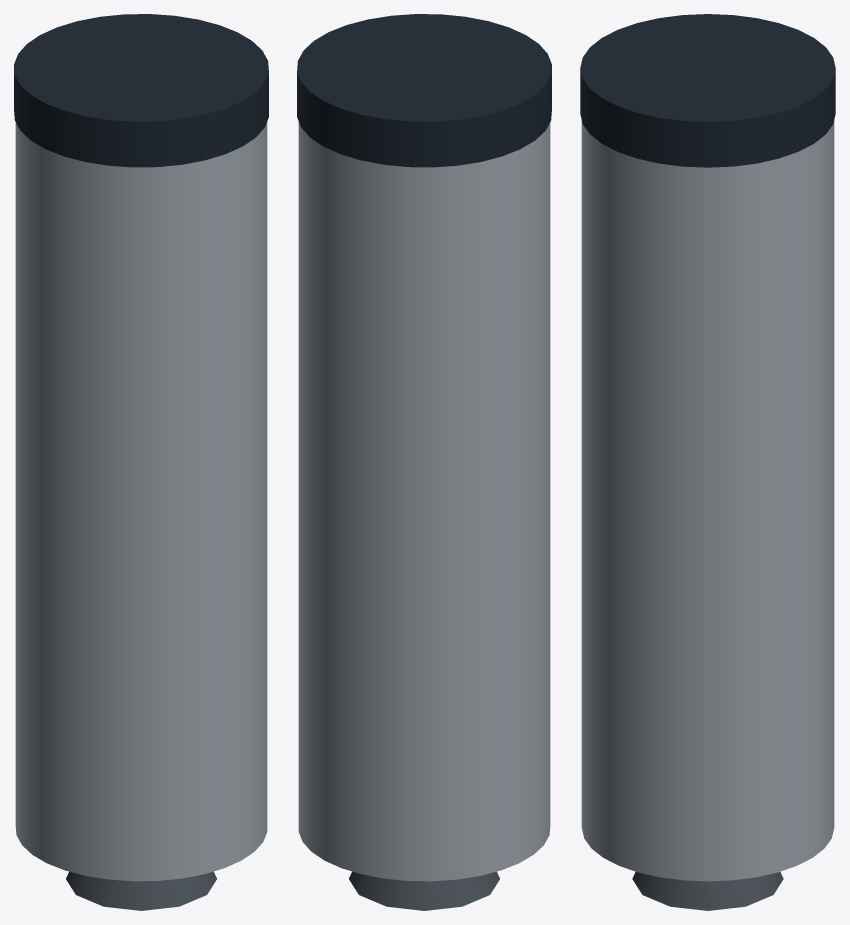
The model's file is starship-stage-2.glb.
The picture shows the model from 3 angles, left to right: view 1: azimuth 30°, elevation 25°; view 2: azimuth 150°, elevation 25°; view 3: azimuth 270°, elevation 25°; orthographic projection.
Parts seen in each view (by area): view 1: body-1, interstage-1, engine-1-0; view 2: body-1, interstage-1, engine-1-0; view 3: body-1, interstage-1, engine-1-0.
Boxes of the visible parts, x1,y1,x2,y2 form: body-1: (15,122,267,881); interstage-1: (14,14,268,167); engine-1-0: (66,871,216,910); body-1: (298,122,550,881); interstage-1: (297,14,551,167); engine-1-0: (349,871,499,910); body-1: (581,120,834,881); interstage-1: (580,14,835,167); engine-1-0: (632,872,783,910).
Bounding box in the file's own units: 9.11 × 31.91 × 9.11.
